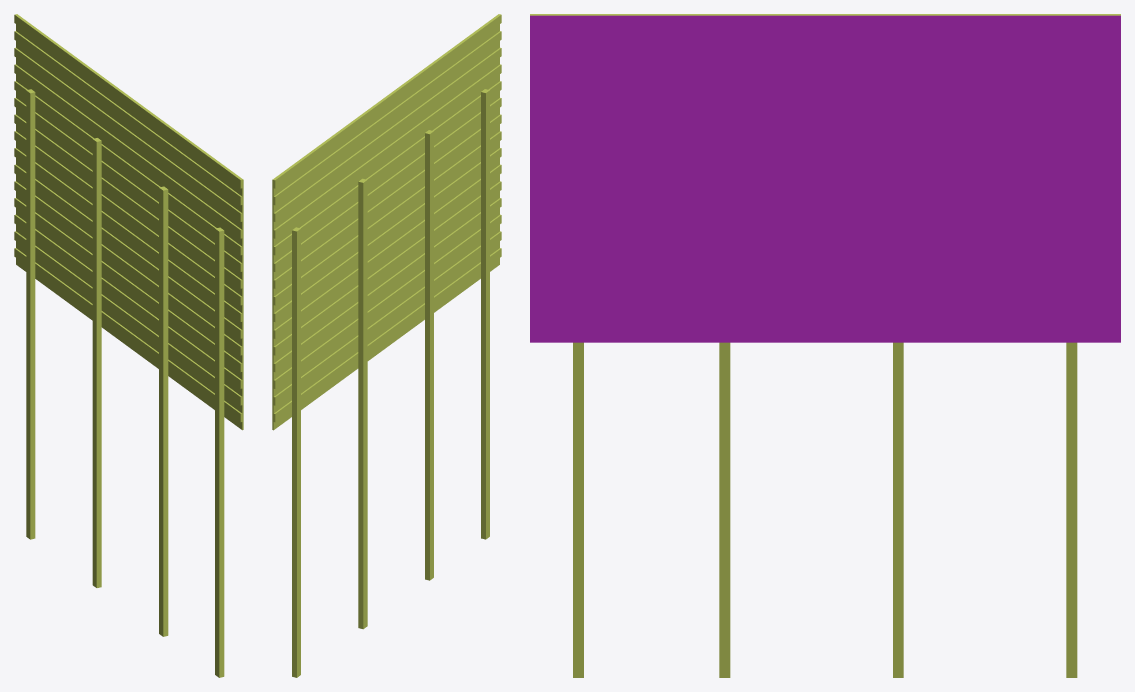
Rendered from cartel.FBX.
3 views of the same model, side by side, from view 1: azimuth 30°, elevation 25°; view 2: azimuth 150°, elevation 25°; view 3: azimuth 270°, elevation 25° (orthographic). The views are drawn at different scales.
Visible parts, largest first — view 1: Box001; view 2: Box001; view 3: Box001.
Boxes of the visible parts, x1,y1,x2,y2 form: Box001: (14,14,243,677); Box001: (272,14,501,677); Box001: (530,14,1120,677).
Bounding box in the file's own units: 4.05 × 254 × 205.
